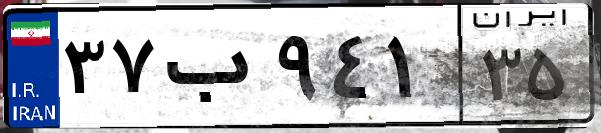1: (385, 28, 445, 110)
3: (57, 26, 110, 100), (475, 38, 525, 113)
4: (330, 28, 385, 110)
5: (525, 38, 570, 115)
7: (110, 28, 158, 98)
9: (270, 28, 330, 110)
ب: (158, 20, 270, 120)
